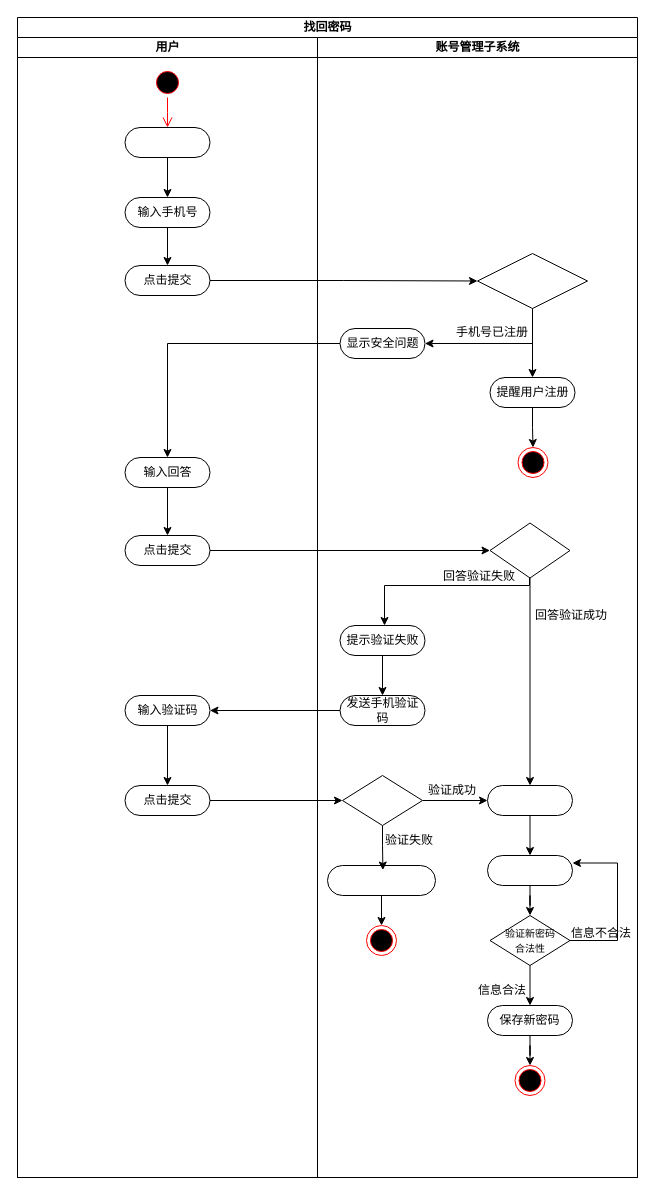
The diagram is 655 pixels wide and 1195 high, and some of its shapes have lost their labels. Here are the shapes that lost their labels. From the top down, the box of each, then its label:
(124, 126, 210, 158): 进入密码找回页面
(476, 252, 588, 308): 手机号是否已注册
(489, 522, 570, 578): 验证回答
(342, 774, 422, 826): SMS验证
(486, 784, 572, 816): 提示验证成功
(326, 864, 436, 896): 提示账号找回失败
(486, 854, 572, 886): 输入新密码
